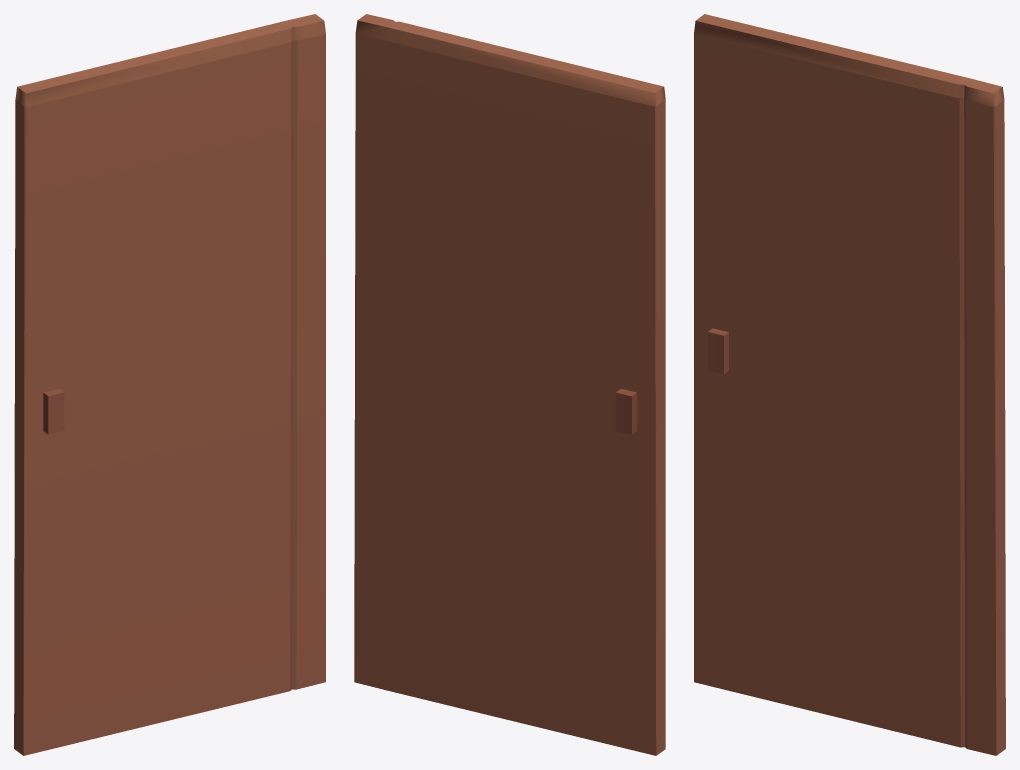
The model's file is closet_door.glb.
3 views of the same model, side by side, from view 1: azimuth 30°, elevation 25°; view 2: azimuth 150°, elevation 25°; view 3: azimuth 330°, elevation 25° (orthographic).
Parts seen in each view (by area): view 1: closet_door; view 2: closet_door; view 3: closet_door.
Part boxes in pixels (x1,y1,x2,y2): closet_door: (14, 14, 325, 755); closet_door: (354, 14, 665, 755); closet_door: (694, 14, 1005, 755).
Bounding box in the file's own units: 1.75 × 3.66 × 0.2006.
Materials: 1 (1 with a texture image).
